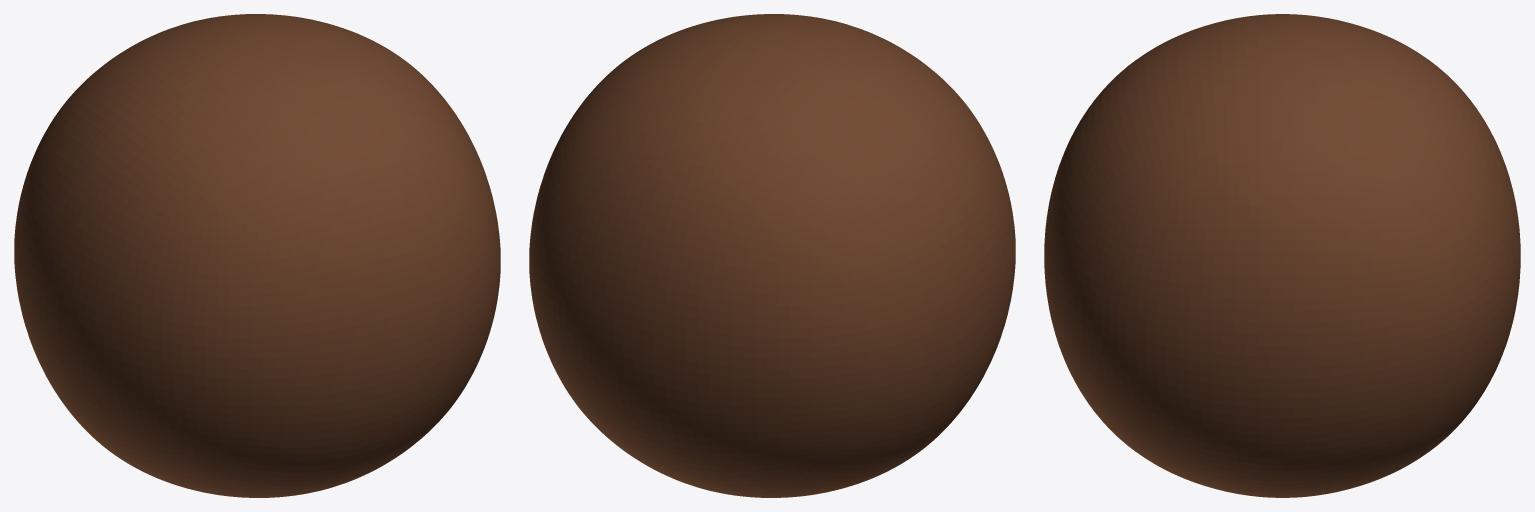
File: asteroid3.dae
The picture shows the model from 3 angles, left to right: view 1: azimuth 30°, elevation 25°; view 2: azimuth 150°, elevation 25°; view 3: azimuth 270°, elevation 25°; orthographic projection.
Parts seen in each view (by area): view 1: Sphere; view 2: Sphere; view 3: Sphere.
Boxes of the visible parts, x1,y1,x2,y2 form: Sphere: (14, 14, 500, 497); Sphere: (529, 14, 1015, 497); Sphere: (1044, 14, 1520, 497).
Bounding box in the file's own units: 1.68 × 1.68 × 1.68.
